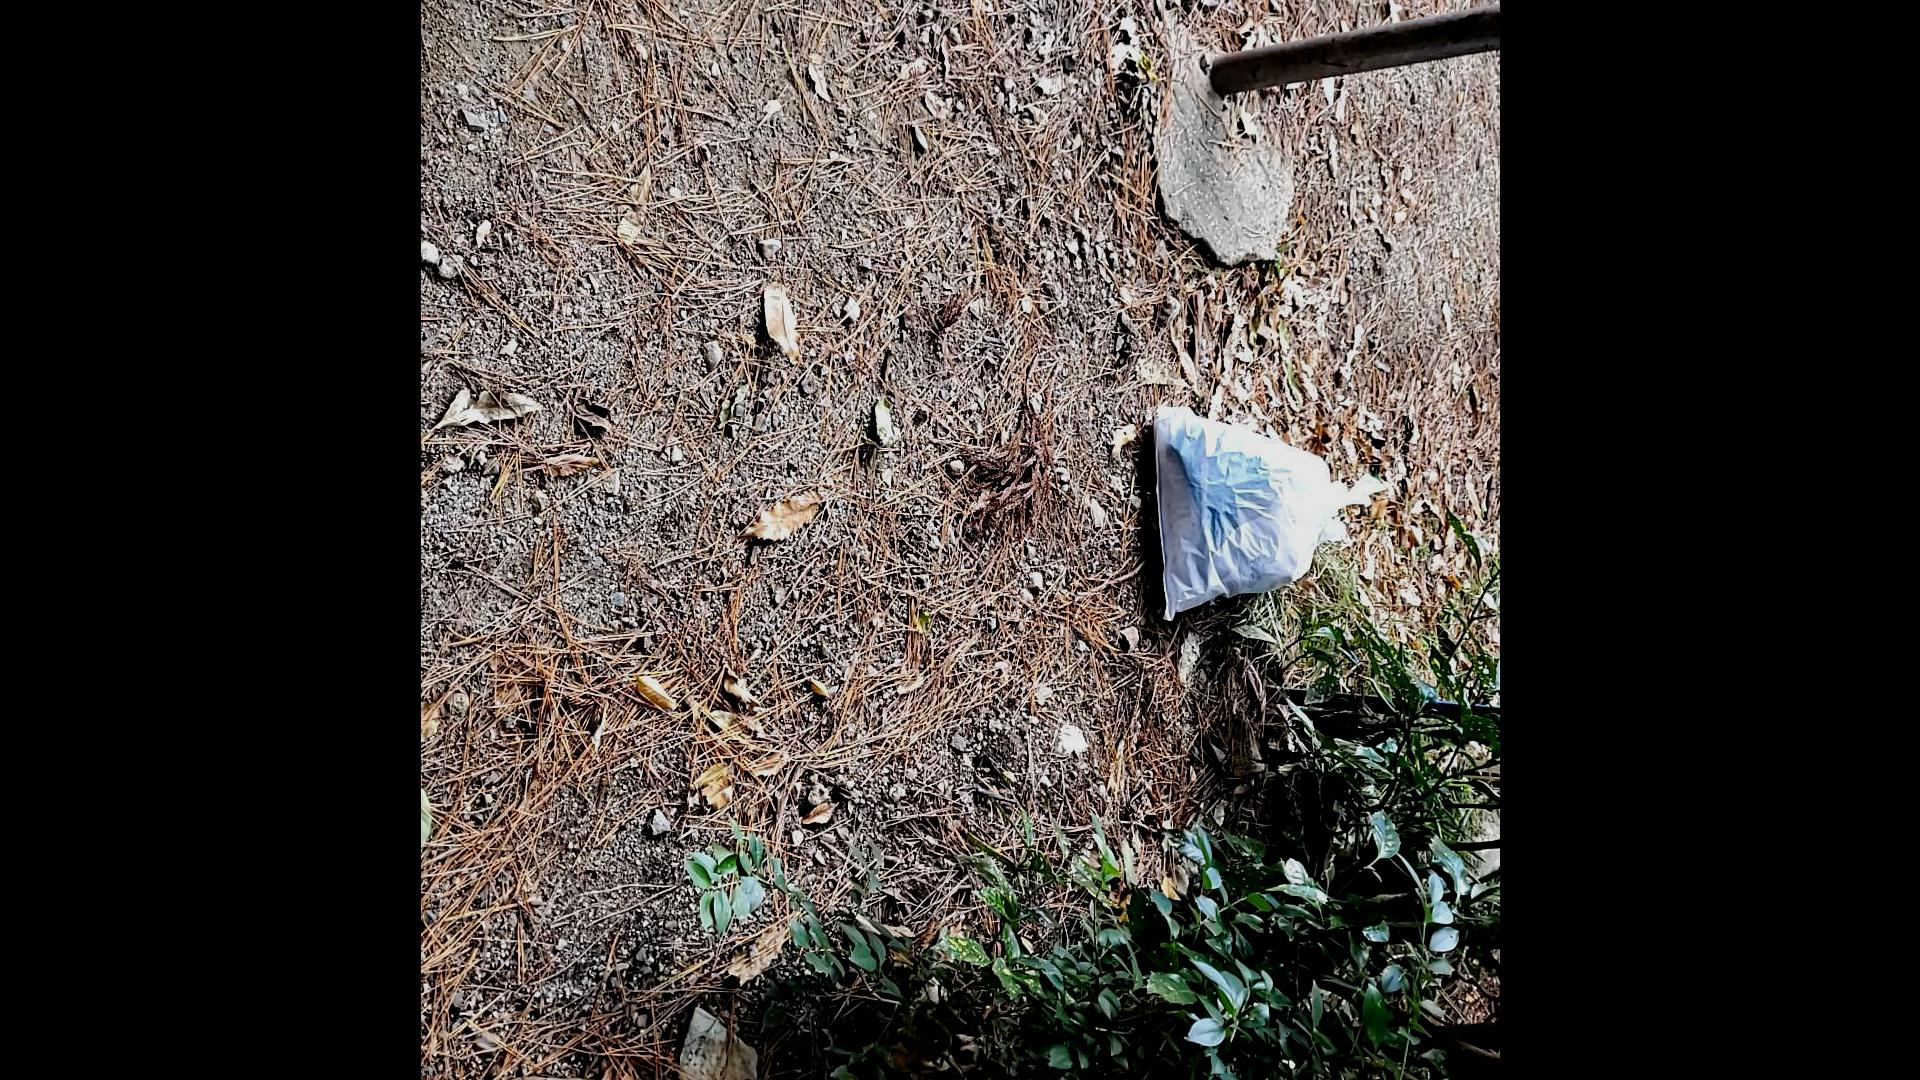white_bag: (1138, 385, 1396, 638)
